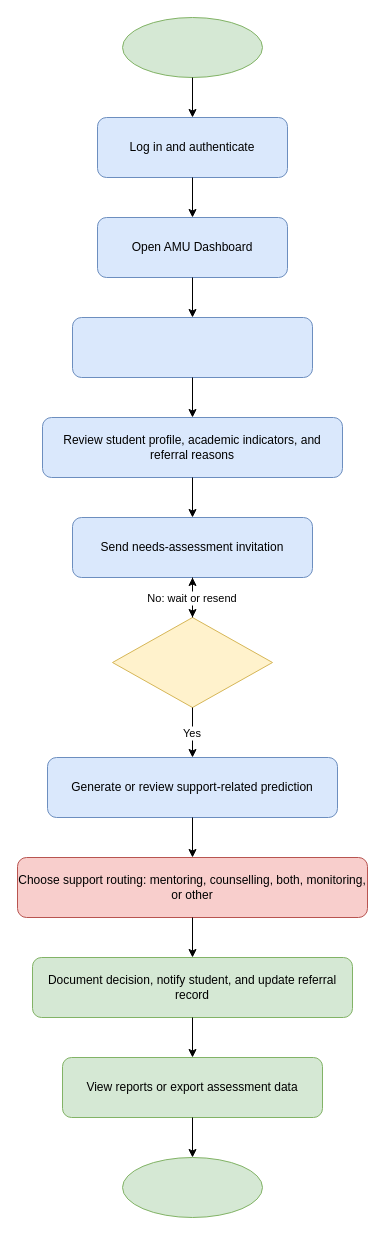
Some shapes in this 385 by 1235 pixel diagram are drawn without their labels. Here are the shapes that lost their labels. From the top down, the box of each, then its label:
(122, 16, 262, 78): Start
(72, 316, 312, 378): View assigned and pending referrals
(112, 616, 272, 708): Assessment response received?
(122, 1156, 262, 1218): End
